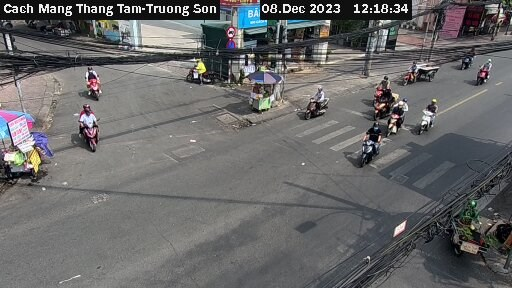motorbike: (64, 100, 115, 155), (71, 60, 115, 99), (353, 127, 388, 168), (410, 98, 448, 133), (300, 86, 333, 122), (184, 56, 219, 89), (381, 99, 411, 134), (472, 56, 492, 85), (369, 73, 392, 98), (454, 44, 476, 70), (398, 63, 417, 87)
